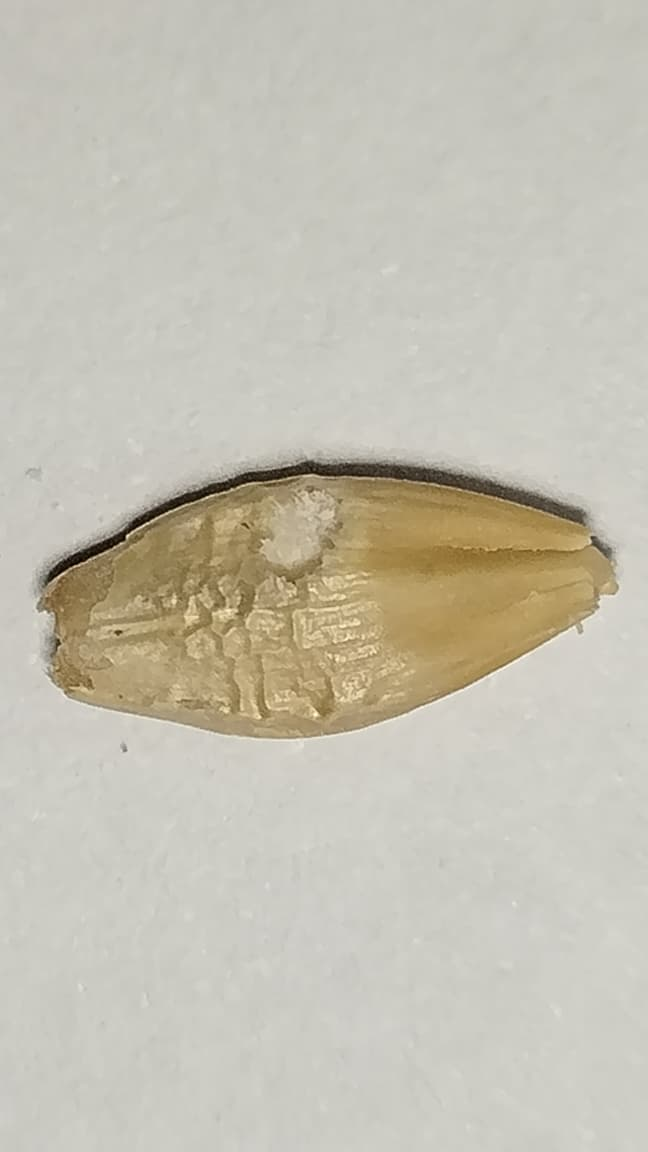damage: (43, 472, 615, 736)
insectdamage: (237, 477, 370, 617)
shriveledseed: (174, 525, 337, 718)
